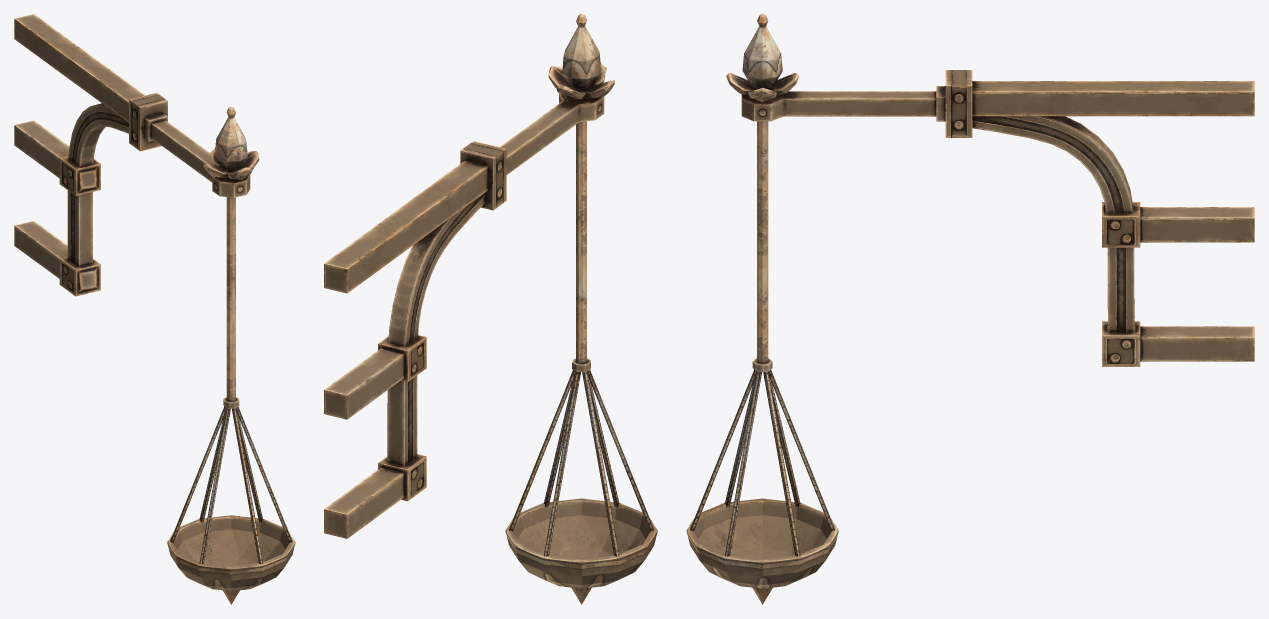
The model's file is Torchlight_Balseph.fbx.
3 renders of one model, left to right at view 1: azimuth 30°, elevation 25°; view 2: azimuth 150°, elevation 25°; view 3: azimuth 270°, elevation 25°, orthographic. The views are drawn at different scales.
Parts seen in each view (by area): view 1: TO14_SM_GRN_Bld_Lamp.mo; view 2: TO14_SM_GRN_Bld_Lamp.mo; view 3: TO14_SM_GRN_Bld_Lamp.mo.
Boxes of the visible parts, <box> form: TO14_SM_GRN_Bld_Lamp.mo: <box>14,14,295,604</box>; TO14_SM_GRN_Bld_Lamp.mo: <box>324,14,657,604</box>; TO14_SM_GRN_Bld_Lamp.mo: <box>686,14,1254,604</box>.
Size of the model in its own units: 80 by 342 by 298.
1 material, 1 textured.
